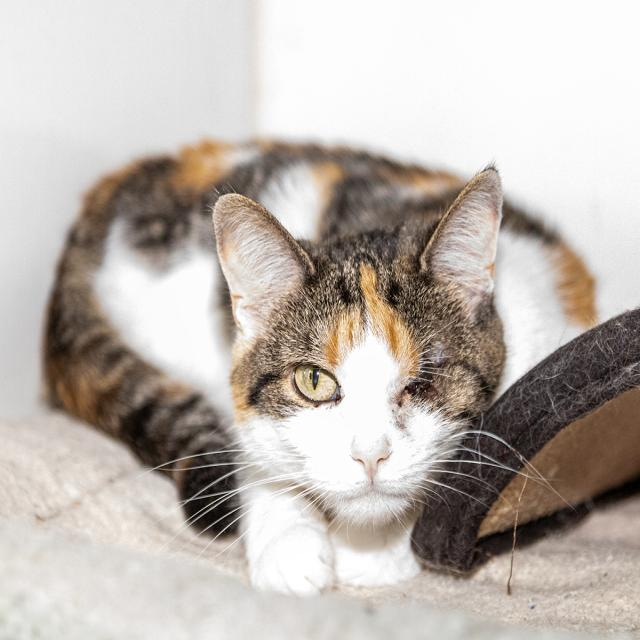calico_cat: (208, 158, 524, 541)
